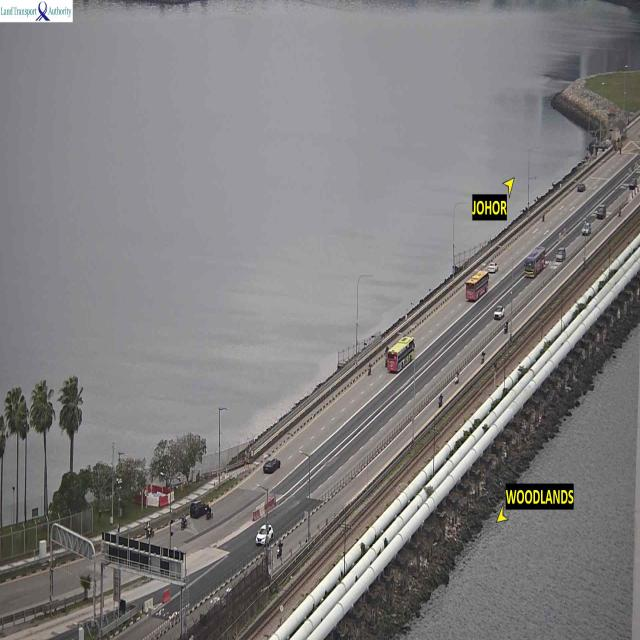vehicles: (385, 336, 416, 377), (524, 248, 547, 279), (466, 271, 486, 302), (256, 524, 276, 550), (190, 499, 212, 521), (264, 459, 282, 479), (493, 305, 504, 321)
